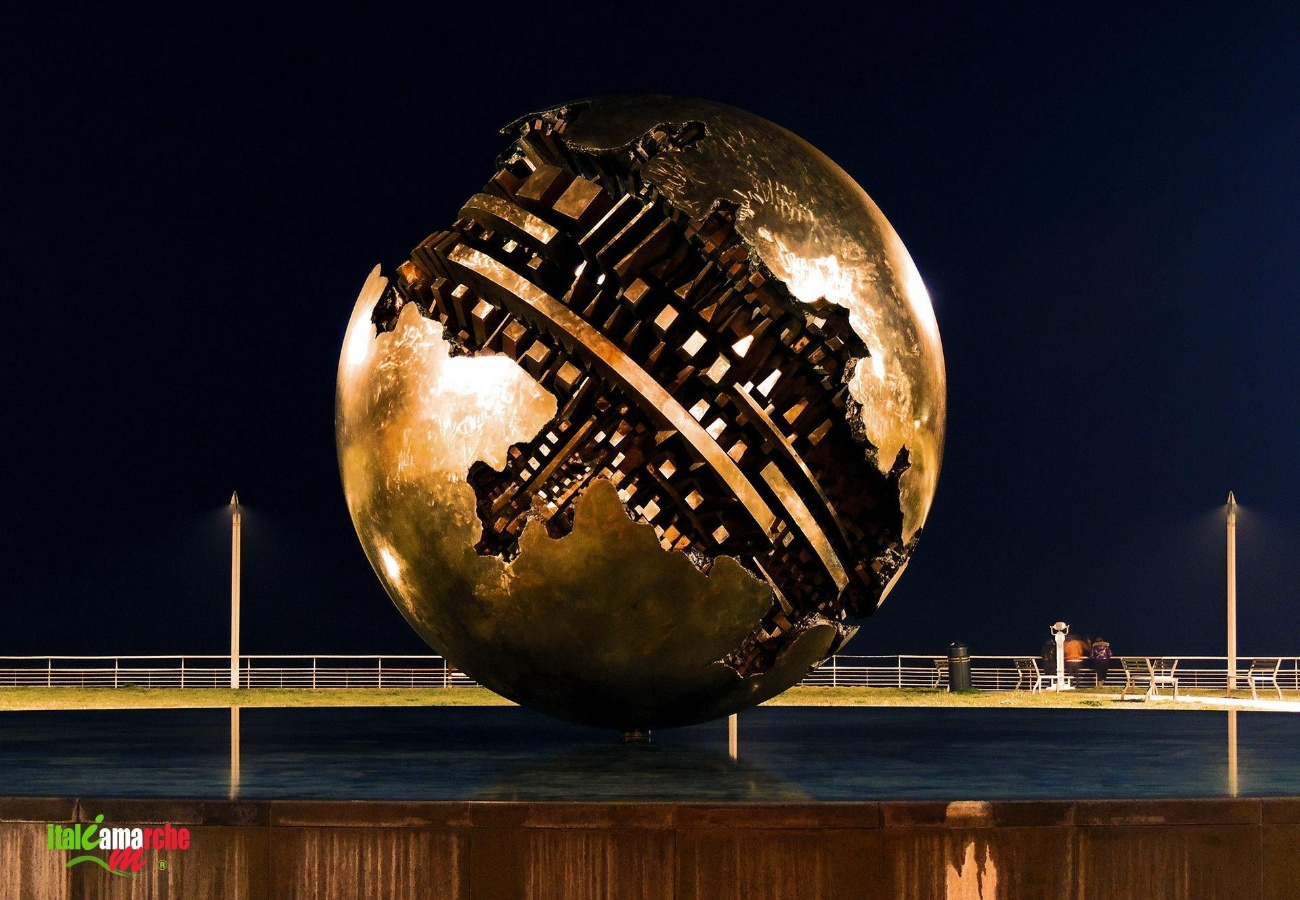Palla di Pomodoro: (329, 103, 949, 732)
